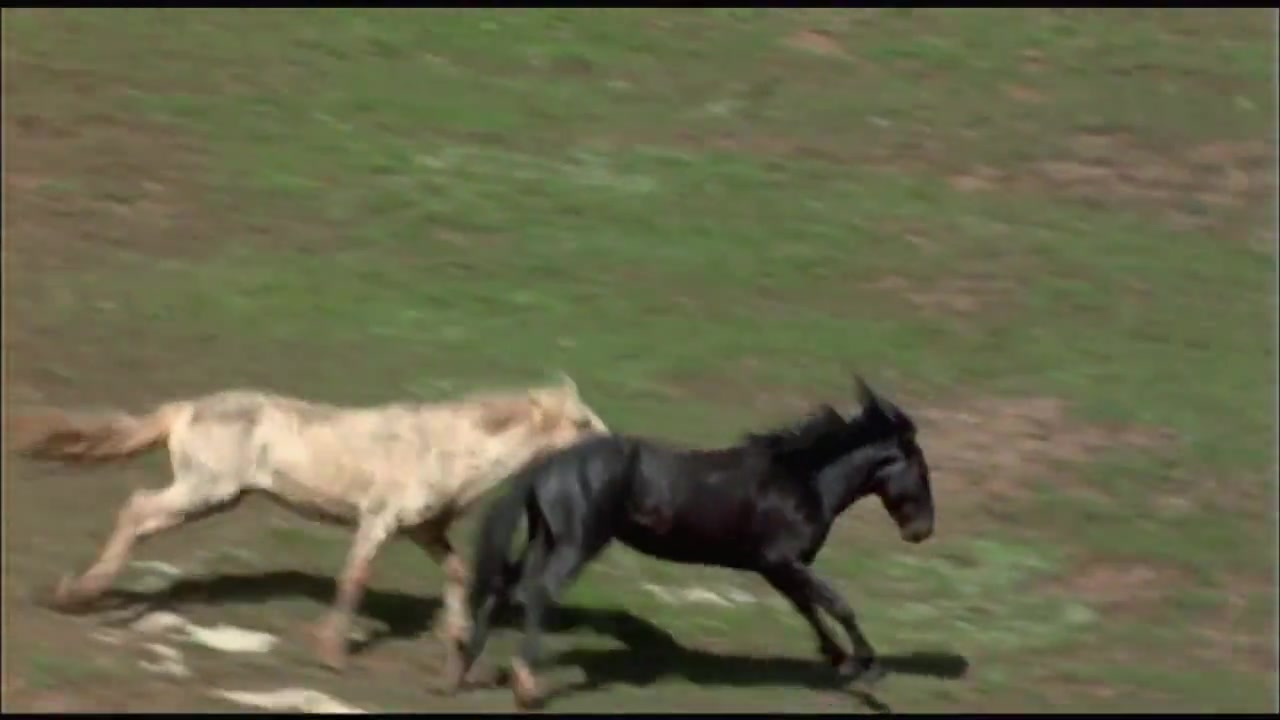horse: (447, 373, 937, 707)
